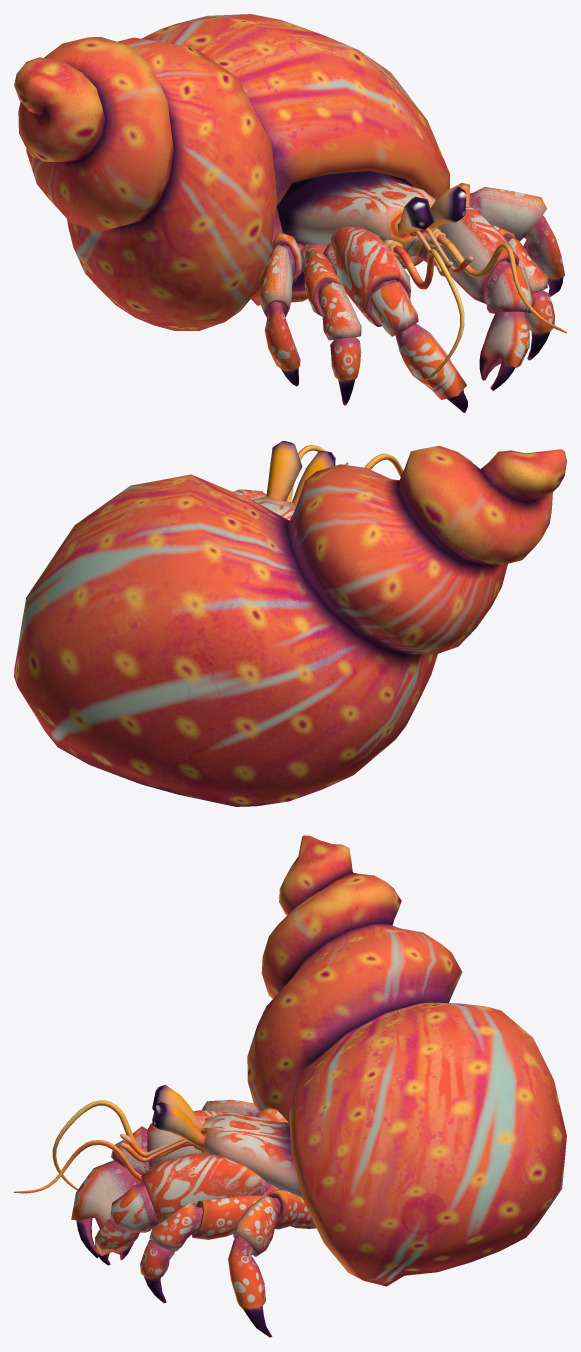
File: little_hermit_crab.glb
3 renders of one model, top to bottom at view 1: azimuth 30°, elevation 25°; view 2: azimuth 150°, elevation 25°; view 3: azimuth 270°, elevation 25°, orthographic. The views are drawn at different scales.
Visible parts, largest first — view 1: Shell_LP, Claw1L_LP, Claw1R_LP, Body_LP, Claw2L_LP, Claw3R_LP, Claw3L_LP, Claw2R_LP, Eyes_LP, AntennaL_LP, AntennaR_LP, Horns_LP; view 2: Shell_LP, Eyes_LP, Body_LP; view 3: Shell_LP, Claw1R_LP, Claw3R_LP, Body_LP, Claw1L_LP, Claw2R_LP, Eyes_LP, AntennaL_LP, Claw3L_LP, AntennaR_LP, Horns_LP.
Part boxes in pixels (x1,y1,x2,y2): Shell_LP: (14, 14, 449, 330); Claw1L_LP: (323, 226, 467, 412); Claw1R_LP: (398, 204, 535, 390); Body_LP: (277, 171, 438, 259); Claw2L_LP: (300, 244, 361, 405); Claw3R_LP: (434, 183, 564, 296); Claw3L_LP: (259, 232, 304, 386); Claw2R_LP: (492, 225, 554, 360); Eyes_LP: (397, 186, 466, 234); AntennaL_LP: (383, 239, 464, 380); AntennaR_LP: (425, 228, 566, 333); Horns_LP: (410, 227, 473, 276); Shell_LP: (14, 445, 566, 806); Eyes_LP: (266, 441, 335, 504); Body_LP: (252, 496, 296, 520); Shell_LP: (247, 835, 566, 1286); Claw1R_LP: (94, 1153, 278, 1265); Claw3R_LP: (228, 1189, 316, 1337); Body_LP: (199, 1112, 302, 1197); Claw1L_LP: (71, 1110, 227, 1257); Claw2R_LP: (140, 1195, 316, 1303); Eyes_LP: (152, 1085, 205, 1147); AntennaL_LP: (52, 1100, 200, 1190); Claw3L_LP: (201, 1099, 288, 1122); AntennaR_LP: (14, 1140, 141, 1193); Horns_LP: (120, 1134, 202, 1162).
Bounding box in the file's own units: 2.99 × 1.83 × 3.19.
Materials: 1 (1 with a texture image).
